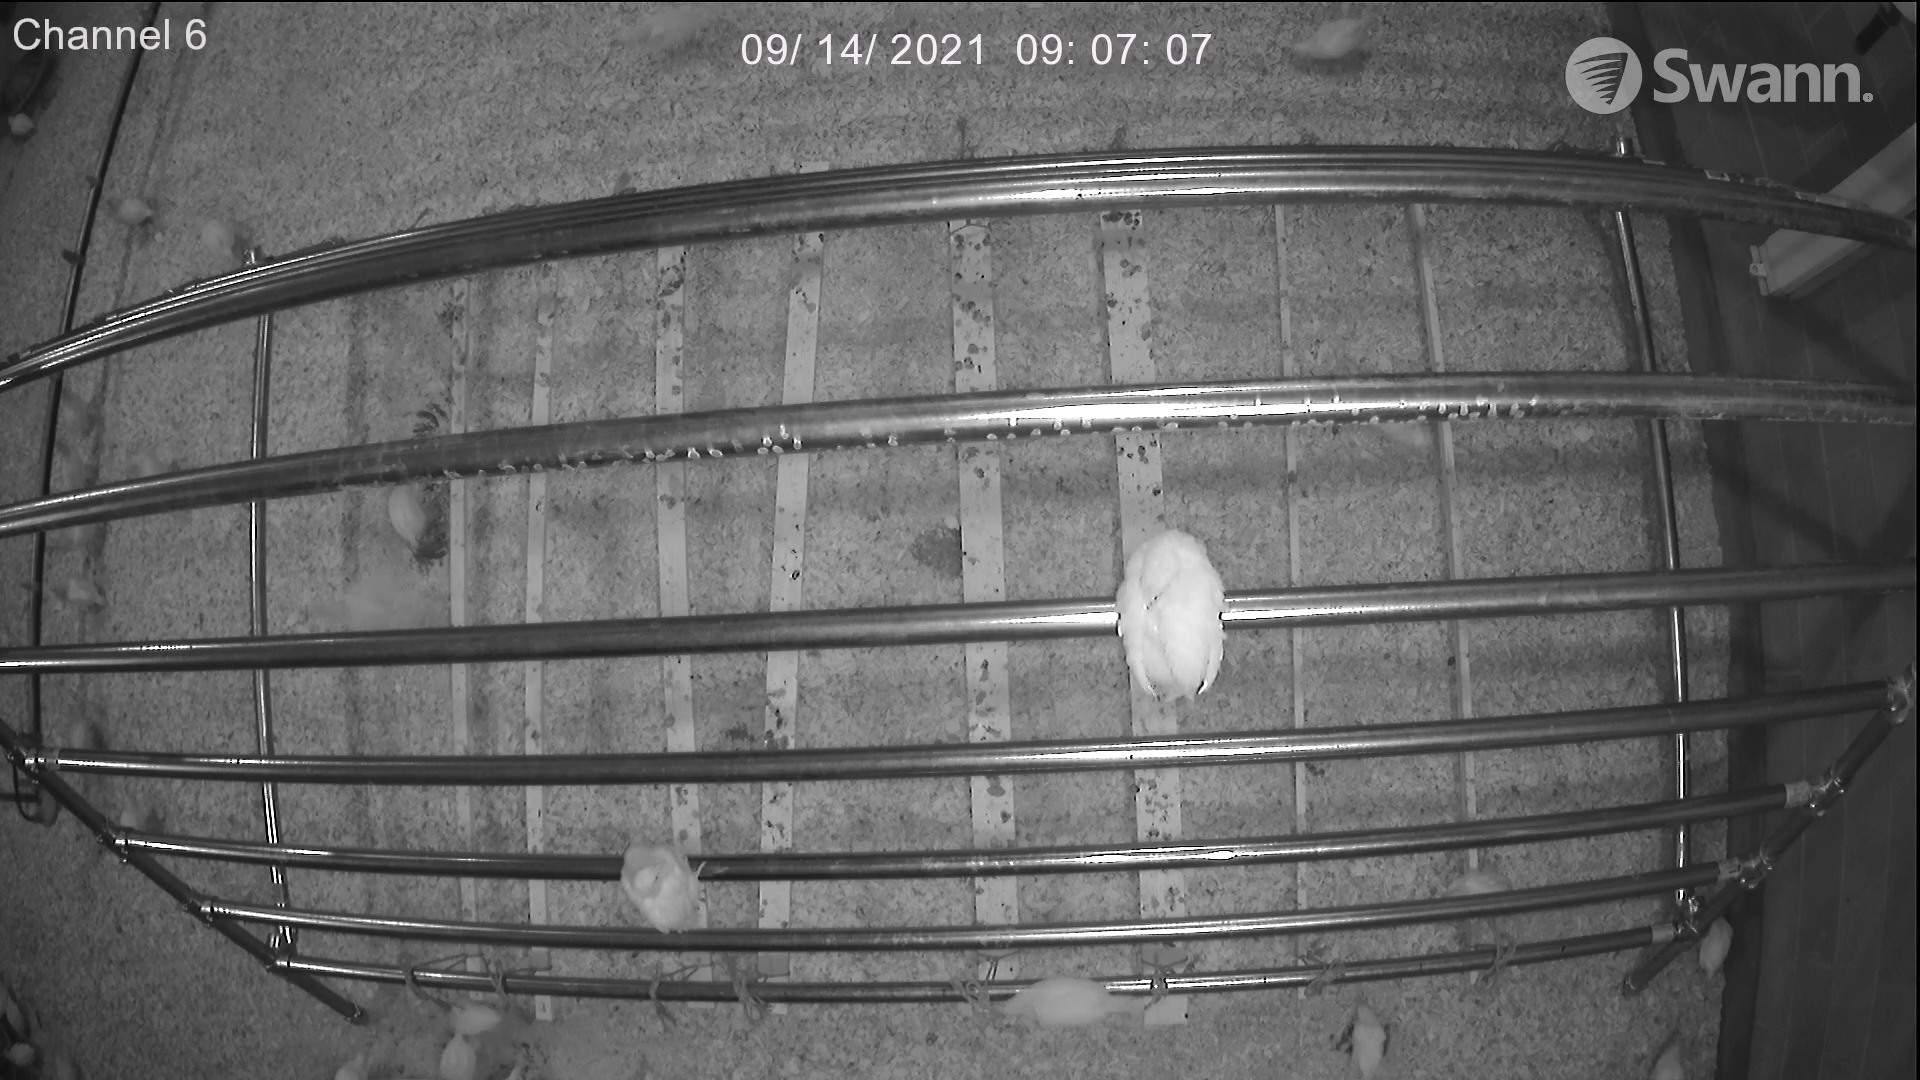Perching: (1092, 514, 1247, 731), (982, 964, 1142, 1034), (607, 829, 704, 930)
